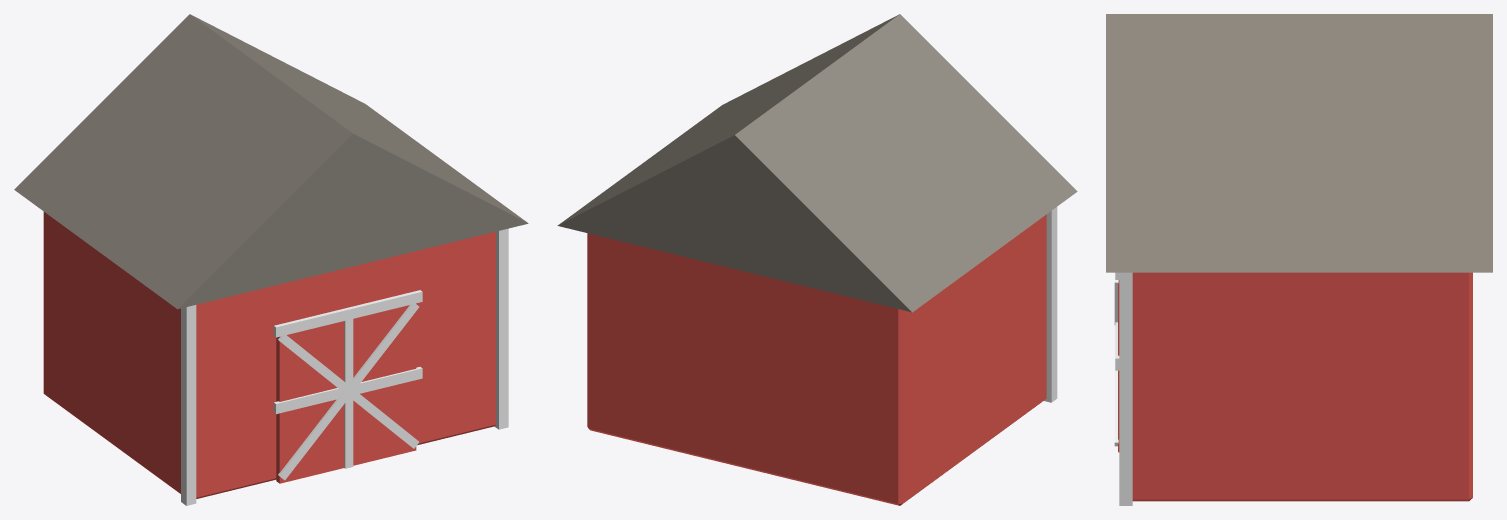
The model's file is prop_barn.glb.
3 views of the same model, side by side, from view 1: azimuth 30°, elevation 25°; view 2: azimuth 150°, elevation 25°; view 3: azimuth 270°, elevation 25° (orthographic). The views are drawn at different scales.
Parts seen in each view (by area): view 1: prop_barn; view 2: prop_barn; view 3: prop_barn.
Part boxes in pixels (x1=…): prop_barn: x1=14, y1=14, x2=528, y2=505; prop_barn: x1=557, y1=14, x2=1077, y2=505; prop_barn: x1=1106, y1=14, x2=1492, y2=505.
Size of the model in its own units: 3.6 by 3.3 by 2.9.
